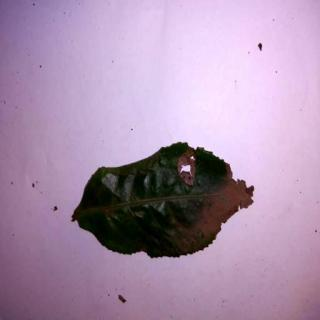Anthracnose: (73, 142, 255, 262)
